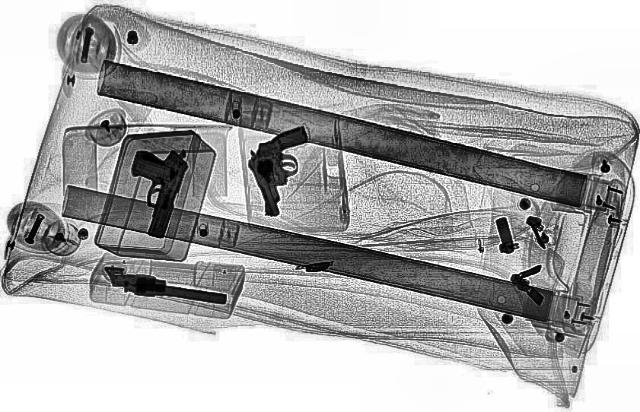Gun: (228, 123, 344, 217), (104, 137, 198, 241), (94, 266, 233, 310)
